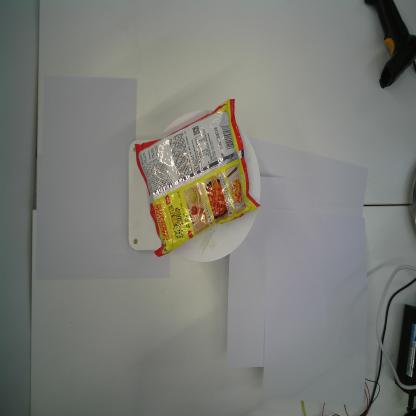Instant Noodles: (134, 99, 261, 259)
